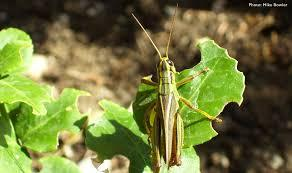insect: (129, 1, 225, 173)
